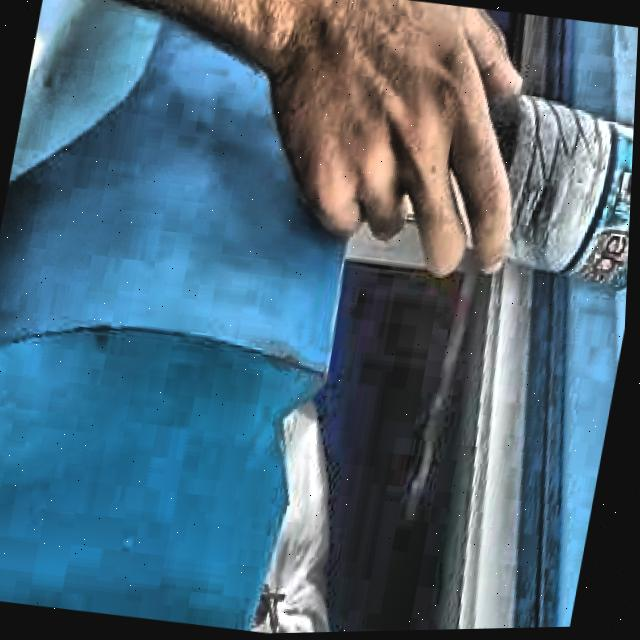plastic: (492, 86, 635, 304)
